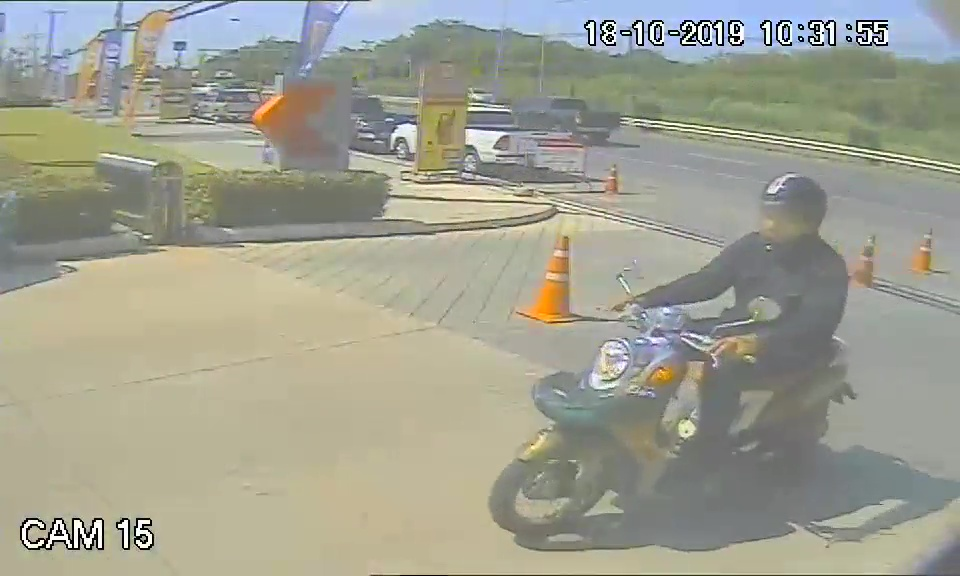motorcycle: (488, 307, 862, 538)
